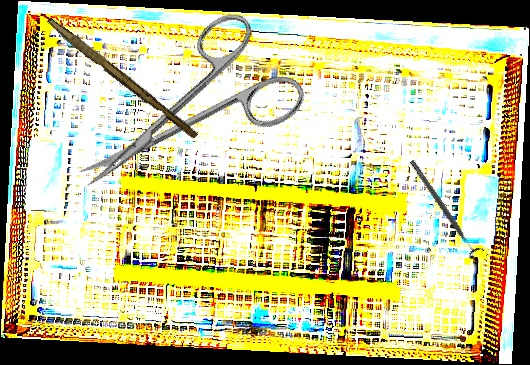Fixation Ring: (404, 155, 485, 261)
Iris Scissors: (48, 0, 313, 228)
Scalpel Handle: (43, 16, 201, 141)
